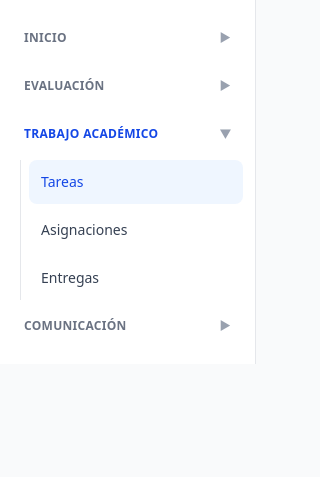
it: Sidebar por categorias › estudiante solo ve lo permitido (sin gestion docente/admin)
The image size is (320, 477).
// Mi perfil vive en Inicio (expandir si está colapsada)
Click the button with aria-label "Categoría Inicio": (128, 38) [12,16,243,60]
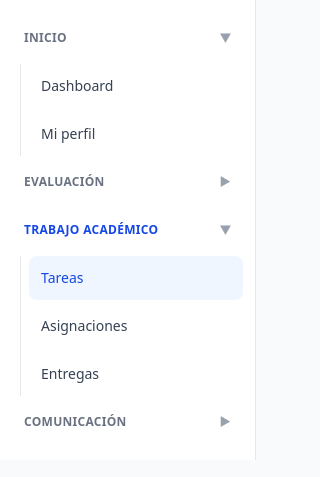
Expected: the link "Mi perfil" is shown, [41,124,95,143]
